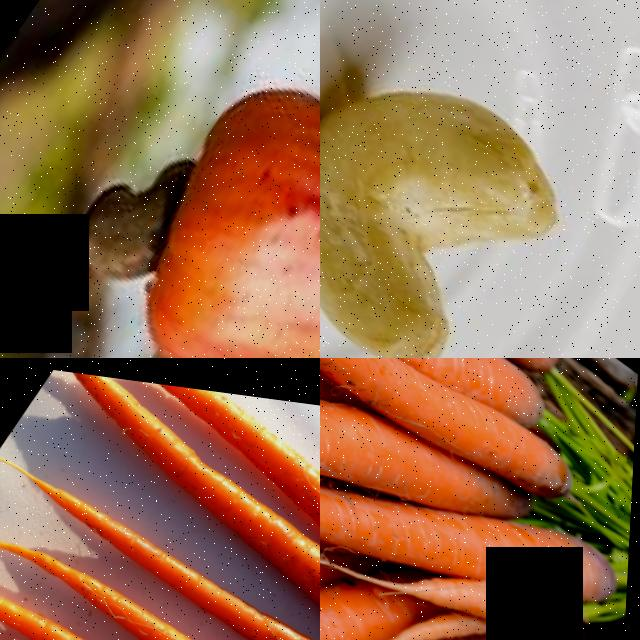carrot: (11, 373, 320, 640), (39, 366, 320, 640), (0, 431, 320, 640), (320, 358, 580, 513), (0, 516, 320, 640), (320, 358, 496, 532), (0, 547, 320, 640), (480, 476, 629, 613), (368, 358, 579, 437), (446, 539, 592, 640)
cashew: (320, 0, 620, 358), (52, 110, 223, 322)
